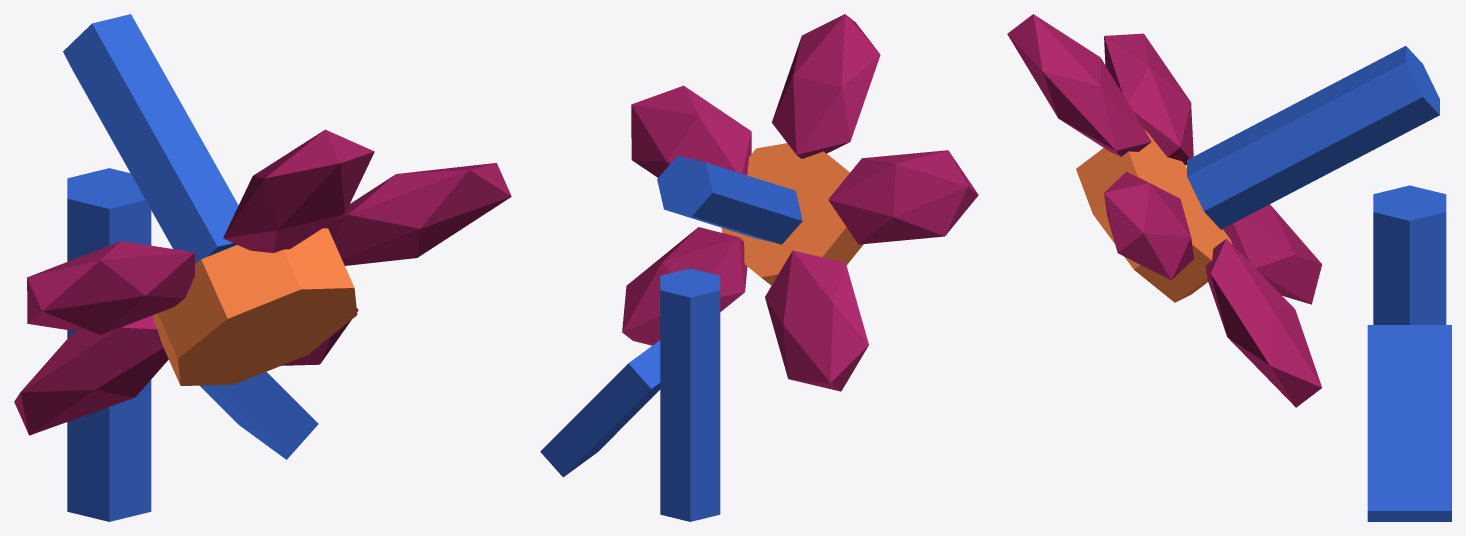
Rendered from wilt.glb.
3 renders of one model, left to right at view 1: azimuth 30°, elevation 25°; view 2: azimuth 150°, elevation 25°; view 3: azimuth 270°, elevation 25°, orthographic. The views are drawn at different scales.
Visible parts, largest first — view 1: Wilt; view 2: Wilt; view 3: Wilt.
Boxes of the visible parts, bbox=[...] form: Wilt: bbox=[14, 14, 511, 521]; Wilt: bbox=[540, 14, 978, 521]; Wilt: bbox=[1007, 14, 1451, 521].
Size of the model in its own units: 0.7852 by 0.8469 by 0.739.
